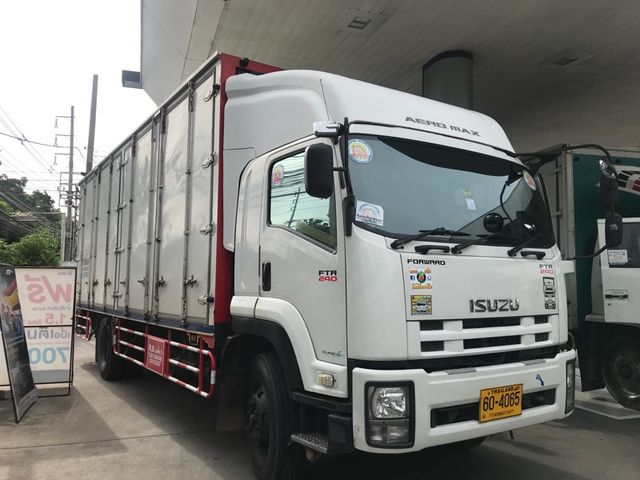truck: (138, 71, 581, 478)
